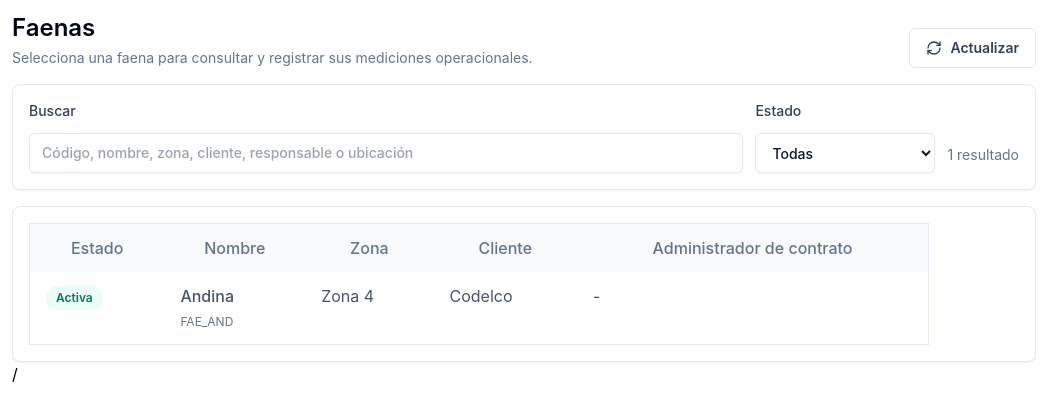
FaenasPage › navigates to the operational page when a row is clicked
The width and height of the screenshot is (1048, 401).
What coordinates should you click on to do the following:
click the row named "Abrir faena Andina"
I would click on:
 (479, 308)
Its box is left=30, top=272, right=928, bottom=344.
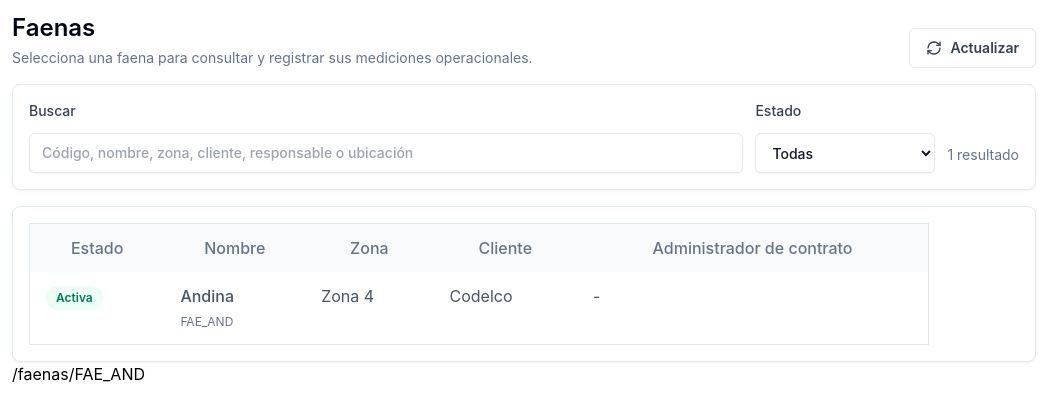
Check: the text with test id "location" reads "/faenas/FAE_AND", box left=12, top=364, right=145, bottom=384
